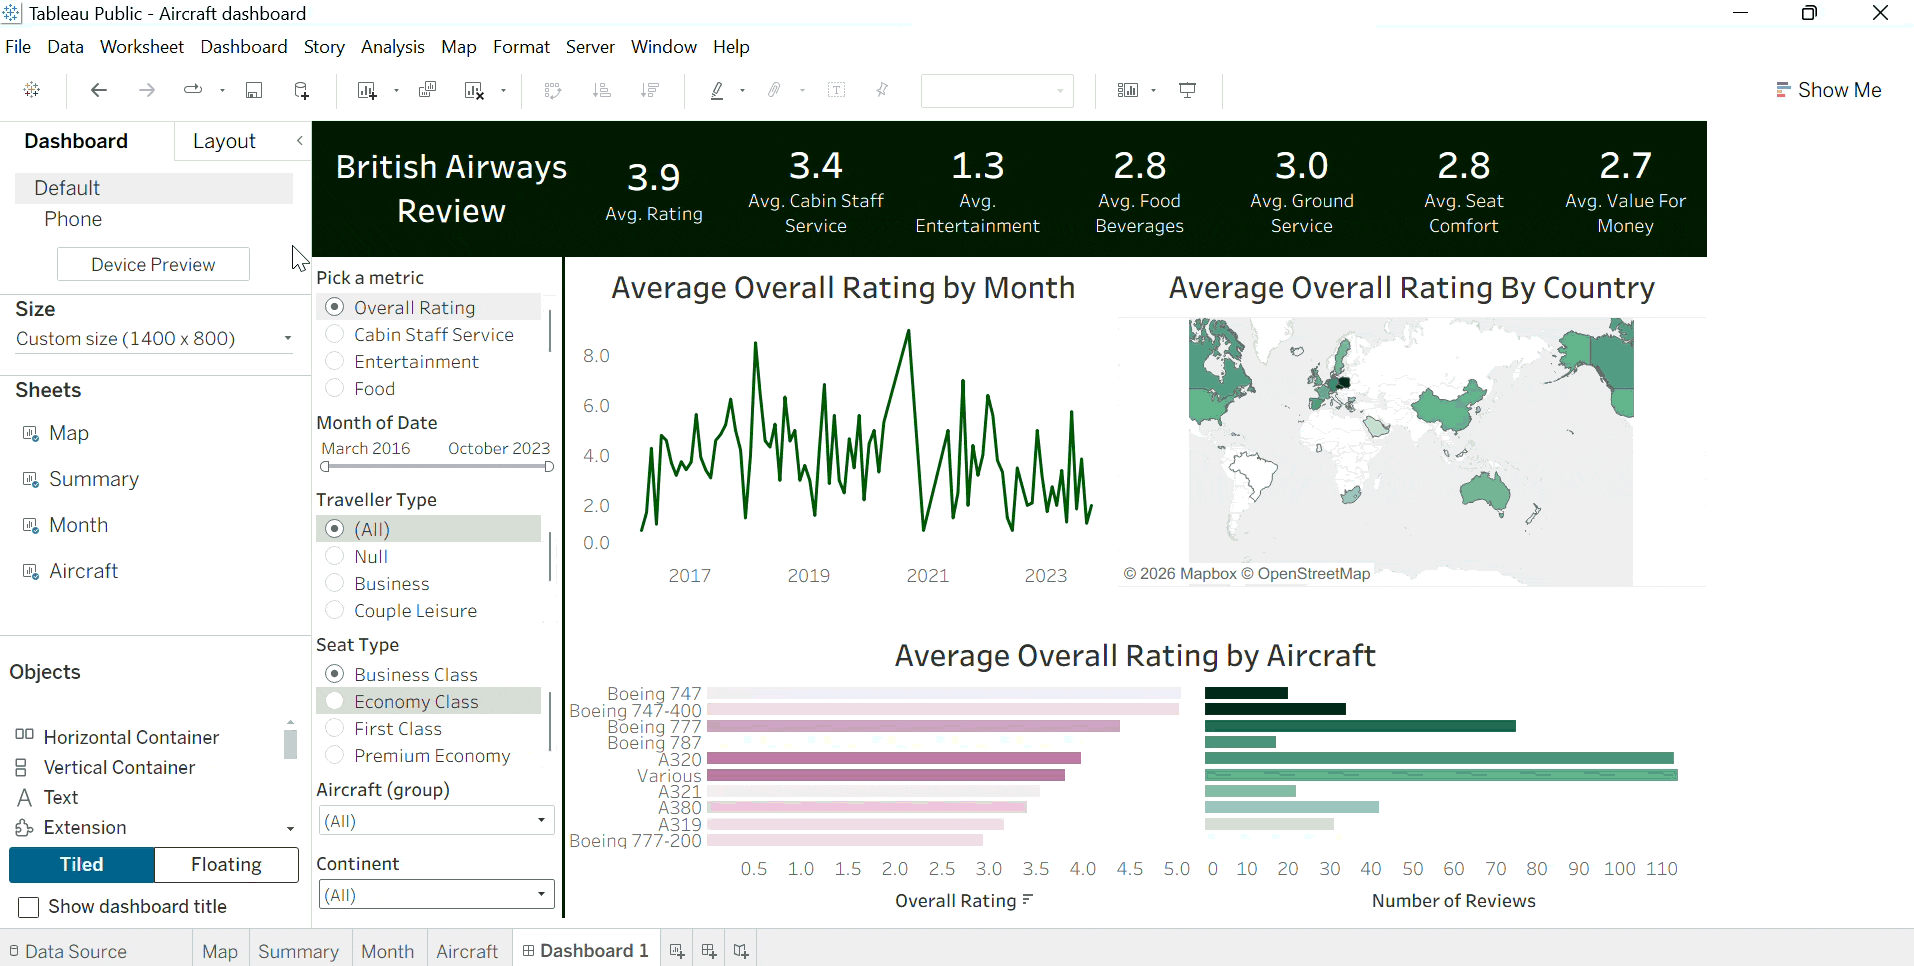

The dashboard page shown, as its layout file describes it:
{"tool":"tableau","page":{"name":"Dashboard 1","canvas":[1400,900],"ordinal":0},"visuals":[{"type":"worksheet","title":"Summary","mark":"Automatic","box":[262,0,1133,153]},{"type":"blank","box":[250,152,3,745]},{"type":"parameter","param":"[Parameters].[Parameter 1636653945106433]","box":[0,156.9,250,173.7]},{"type":"worksheet","title":"Month","mark":"Automatic","rows":["Calculation_1636653946429442"],"cols":["date"],"box":[251,157,552,366]},{"type":"worksheet","title":"Map","mark":"Automatic","box":[806,157,588,367]},{"type":"filter","title":"Map","param":"[federated.0uqs3iv0kxuhz71e501kb0if6hi6].[tmn:date:qk]","box":[0,330.5,250,77]},{"type":"filter","title":"Map","param":"[federated.0uqs3iv0kxuhz71e501kb0if6hi6].[none:traveller_type:nk]","box":[0,407.5,250,173.7]},{"type":"worksheet","title":"Aircraft","mark":"Automatic","cols":["Calculation_1636653946429442","ba_reviews.csv_B79475578B3F45A1AB61605675D21005"],"box":[255,572,1137,326]},{"type":"filter","title":"Map","param":"[federated.0uqs3iv0kxuhz71e501kb0if6hi6].[none:seat_type:nk]","box":[0,581.2,250,173.7]},{"type":"filter","title":"Map","param":"[federated.0uqs3iv0kxuhz71e501kb0if6hi6].[Aircraft (group)]","box":[0,754.9,250,70]},{"type":"filter","title":"Map","param":"[federated.0uqs3iv0kxuhz71e501kb0if6hi6].[none:Continent:nk]","box":[0,824.9,250,70]}]}

Visuals, with their boxes on the page's 1400x900 design canvas (x1, y1, x2, y2). These are canvas units, not pixel positions in the 1914x966 screenshot, which may show the page scaled, cropped or inside an application window:
"Summary" worksheet: bbox=(262, 0, 1395, 153)
blank: bbox=(250, 152, 253, 897)
parameter: bbox=(0, 157, 250, 331)
"Month" worksheet: bbox=(251, 157, 803, 523)
"Map" worksheet: bbox=(806, 157, 1394, 524)
"Map" filter: bbox=(0, 330, 250, 408)
"Map" filter: bbox=(0, 408, 250, 581)
"Aircraft" worksheet: bbox=(255, 572, 1392, 898)
"Map" filter: bbox=(0, 581, 250, 755)
"Map" filter: bbox=(0, 755, 250, 825)
"Map" filter: bbox=(0, 825, 250, 895)
